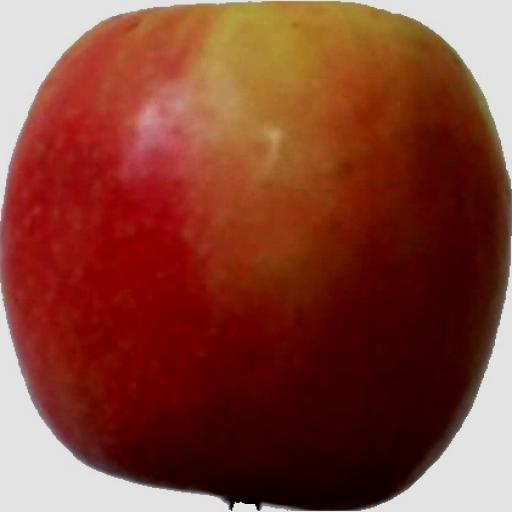apple-ripe: (0, 0, 512, 508)
